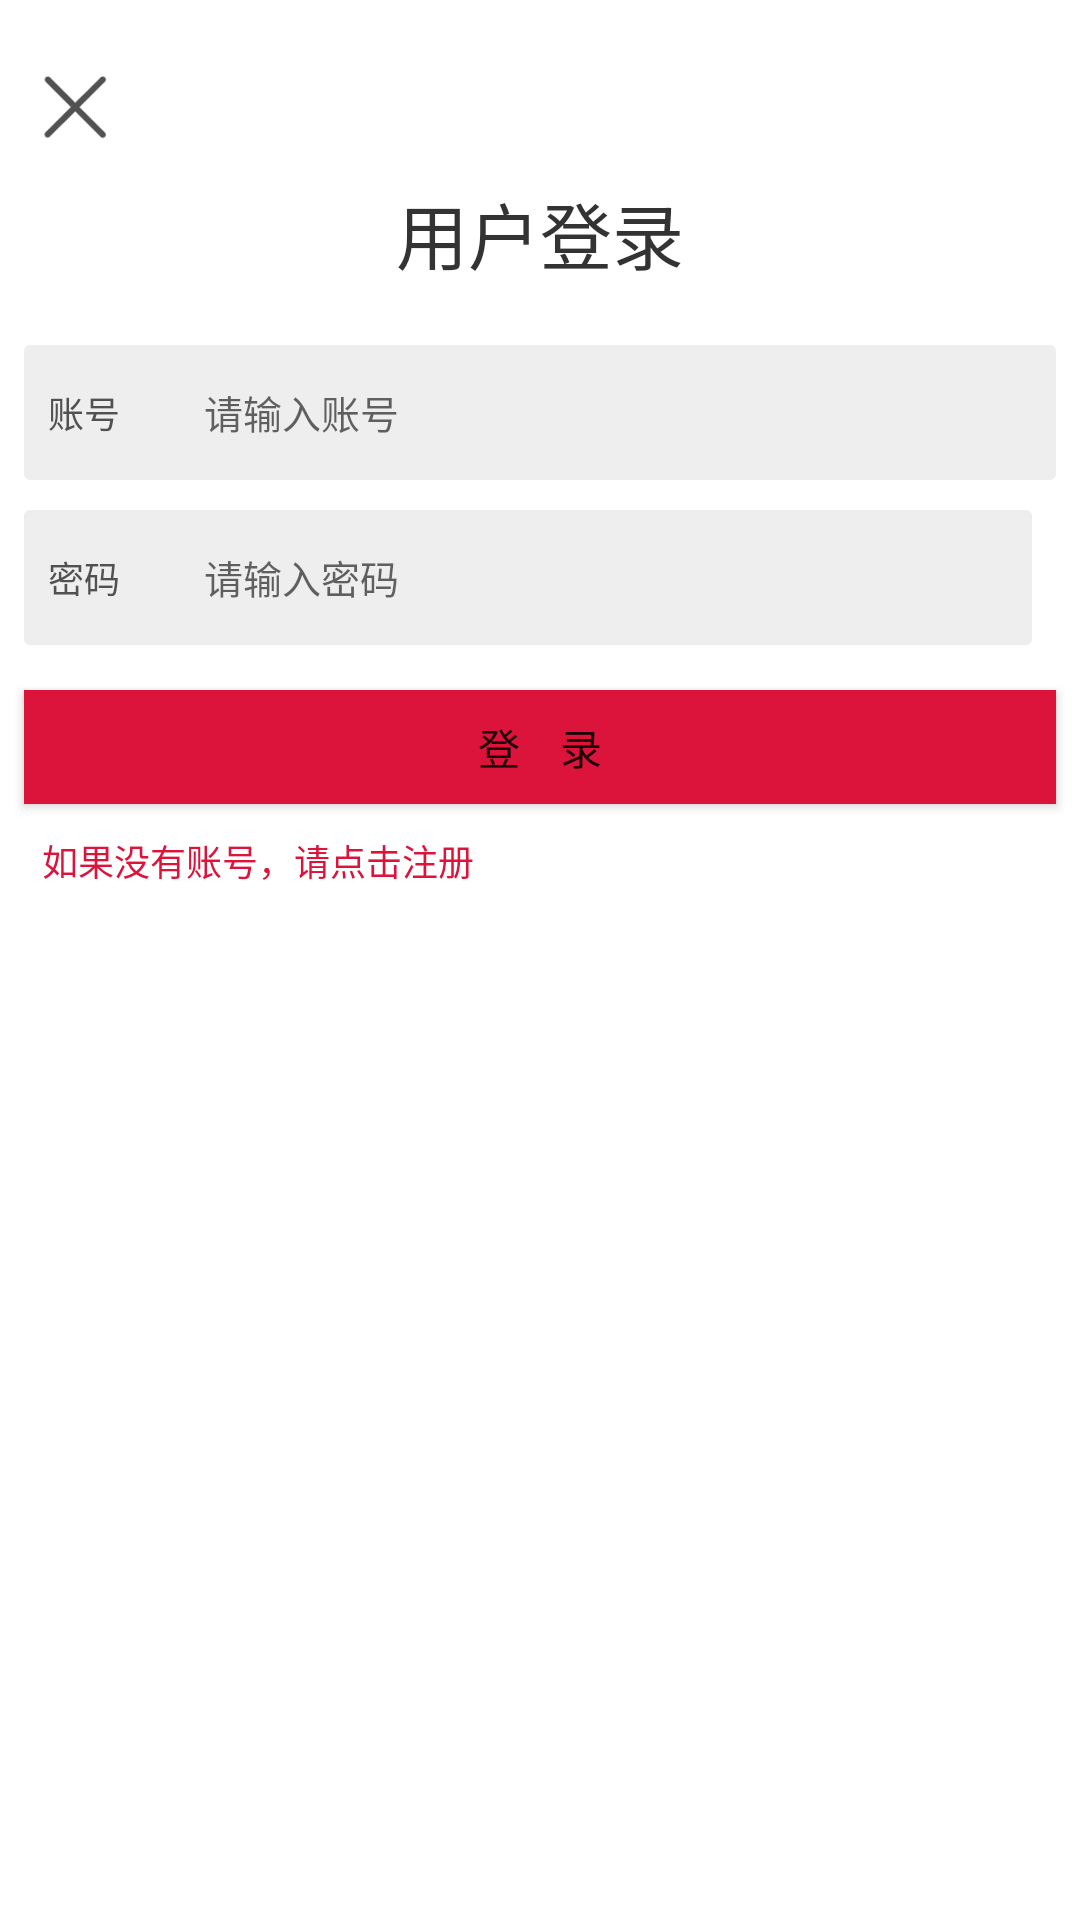

Named icons in this screenshot (1080x1920) and their centers, [x,y]:
close: [75,107]
